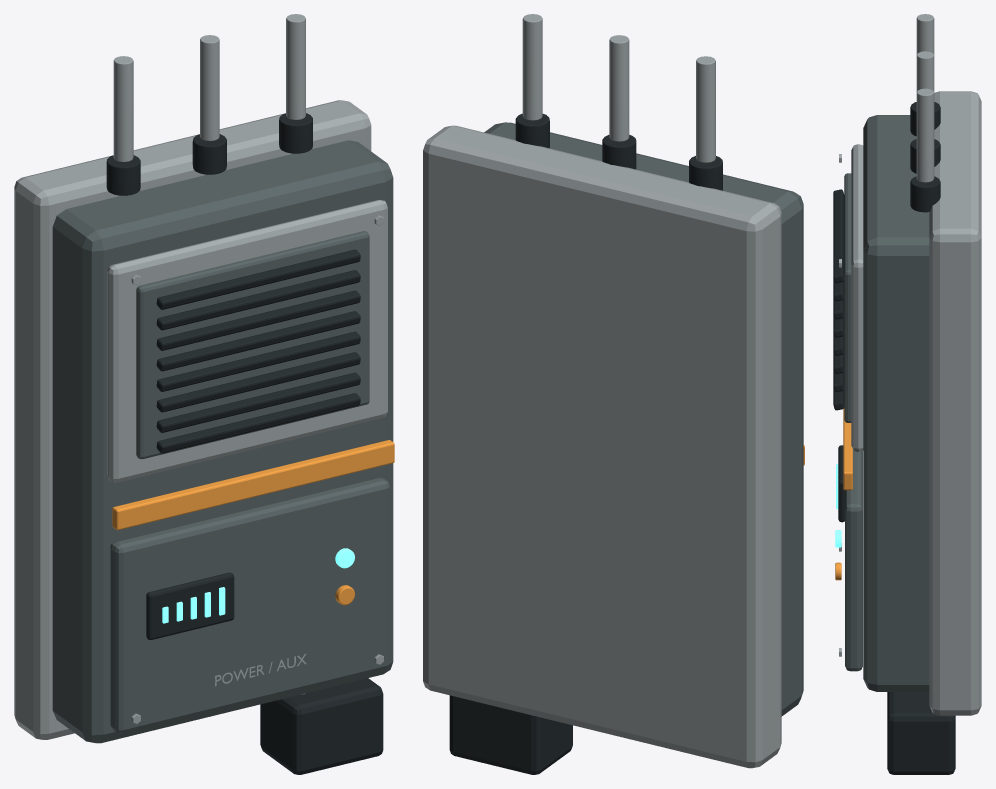
The model's file is IndustrialServiceUnit.fbx.
The picture shows the model from 3 angles, left to right: view 1: azimuth 30°, elevation 25°; view 2: azimuth 150°, elevation 25°; view 3: azimuth 270°, elevation 25°; orthographic projection. The views are drawn at different scales.
Parts seen in each view (by area): view 1: IndustrialServiceUnit_Hull, IndustrialServiceUnit_Steel, IndustrialServiceUnit_Rubber, IndustrialServiceUnit_Amber, IndustrialServiceUnit_Cyan; view 2: IndustrialServiceUnit_Steel, IndustrialServiceUnit_Hull, IndustrialServiceUnit_Rubber; view 3: IndustrialServiceUnit_Hull, IndustrialServiceUnit_Steel, IndustrialServiceUnit_Rubber, IndustrialServiceUnit_Amber.
Boxes of the visible parts, <box> form: IndustrialServiceUnit_Hull: <box>52,140,393,743</box>; IndustrialServiceUnit_Steel: <box>14,14,387,739</box>; IndustrialServiceUnit_Rubber: <box>106,113,383,774</box>; IndustrialServiceUnit_Amber: <box>112,440,394,605</box>; IndustrialServiceUnit_Cyan: <box>162,548,354,623</box>; IndustrialServiceUnit_Steel: <box>423,14,781,768</box>; IndustrialServiceUnit_Hull: <box>484,122,803,716</box>; IndustrialServiceUnit_Rubber: <box>449,113,722,774</box>; IndustrialServiceUnit_Hull: <box>844,115,929,691</box>; IndustrialServiceUnit_Steel: <box>839,14,981,715</box>; IndustrialServiceUnit_Rubber: <box>833,102,955,774</box>; IndustrialServiceUnit_Amber: <box>835,408,852,580</box>.
Size of the model in its own units: 86 by 181 by 36.95.
